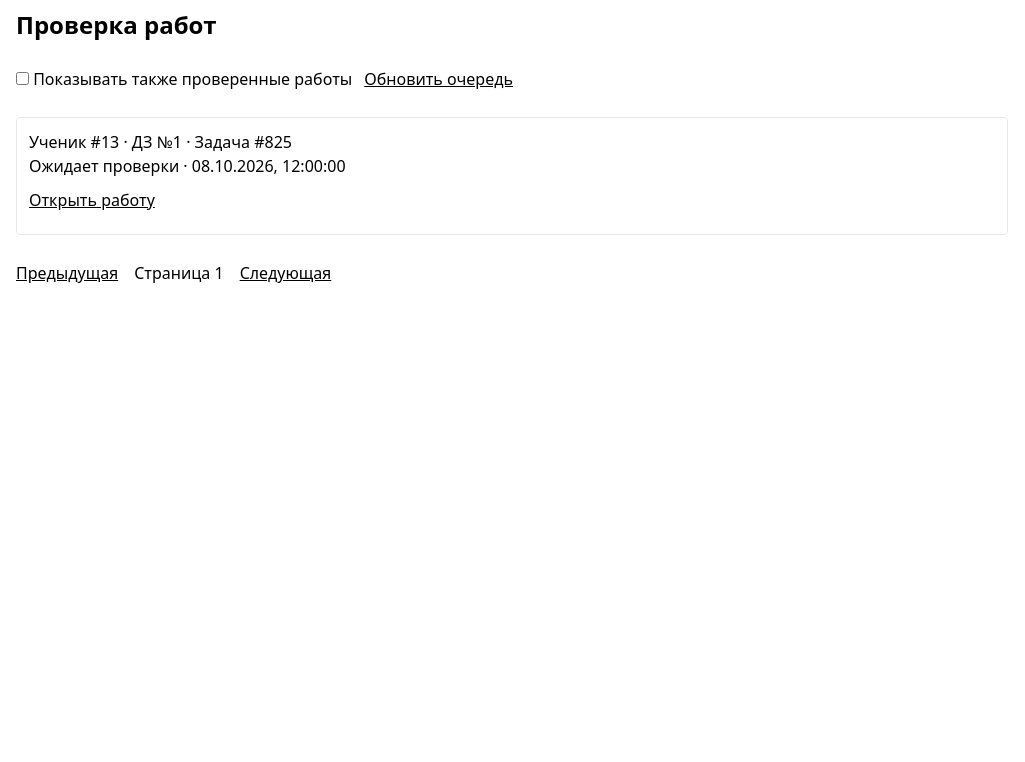
Scenario: requires a comment for revision and removes review controls after accepting
Click the button "Открыть работу": [92, 200] box [29,178,155,222]
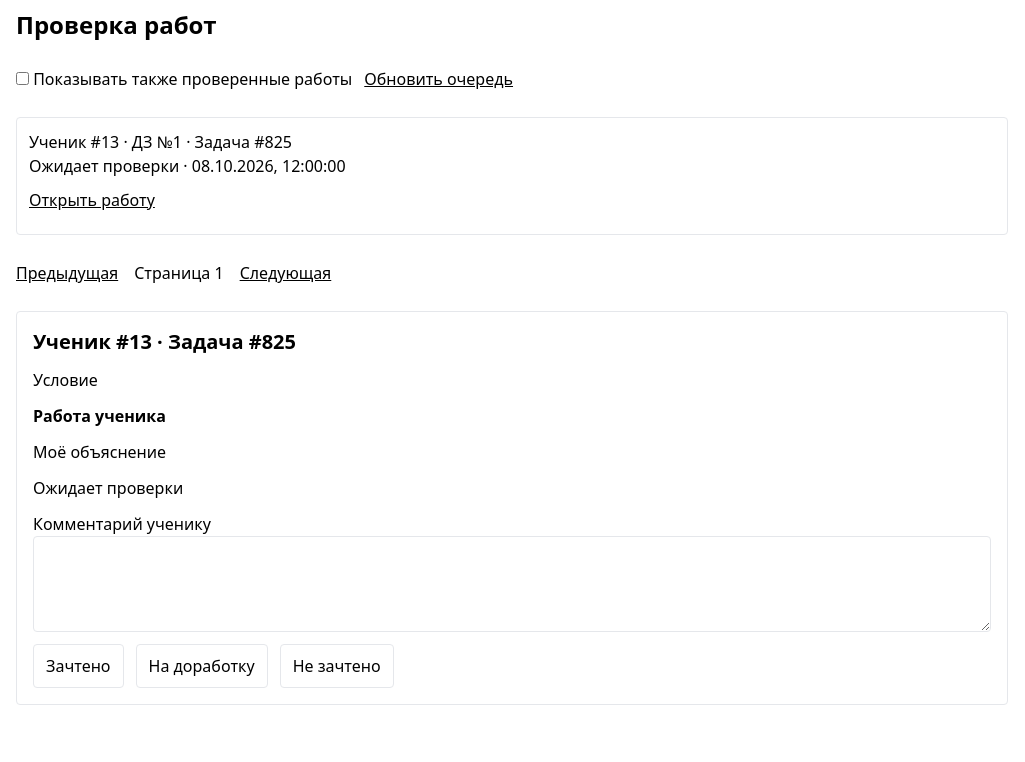
Result: the text "Моё объяснение" is shown at [33,441,166,463]
Click the button "На доработку": [202, 666] box [136,644,268,688]
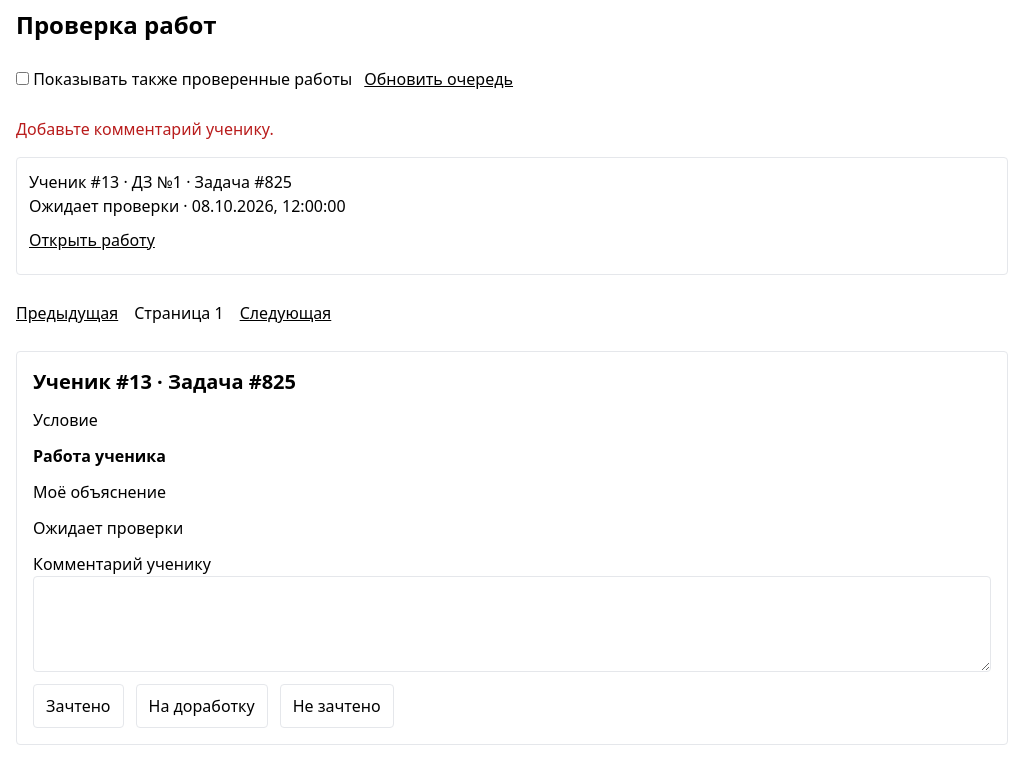
Result: the text "Добавьте комментарий ученику." is shown at [16,118,274,140]
In the text box labelled "Комментарий ученику": [512, 624] box [33,576,991,672], type "Хорошо"
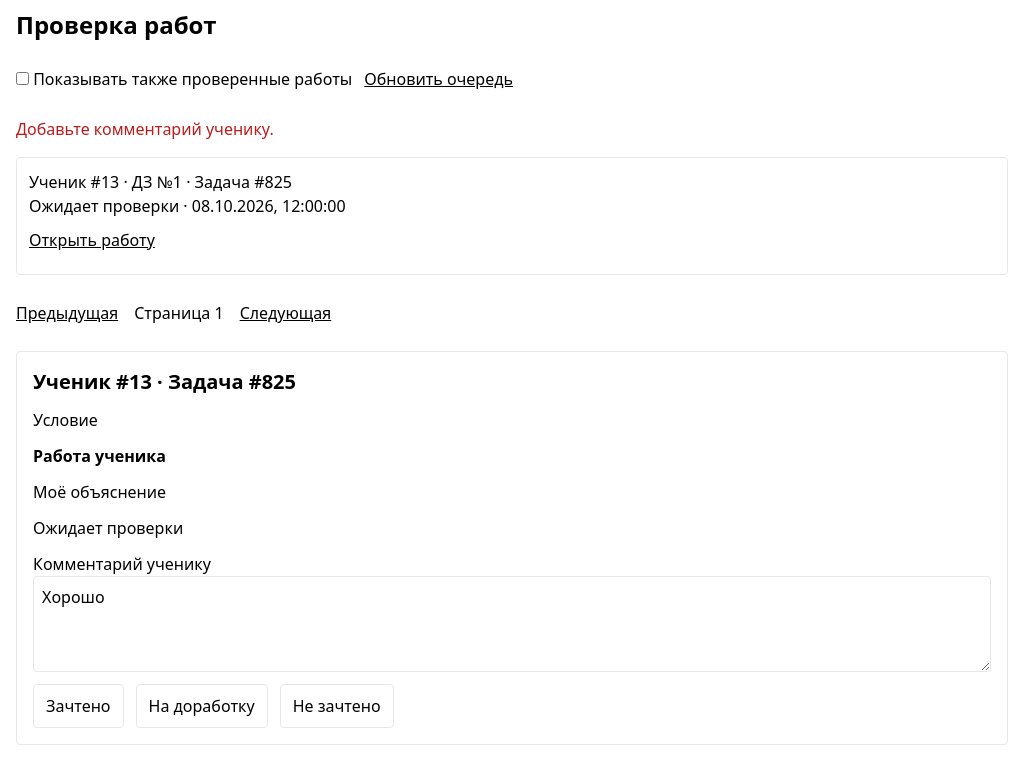
Click the button "Зачтено": [78, 706] box [33,684,124,728]
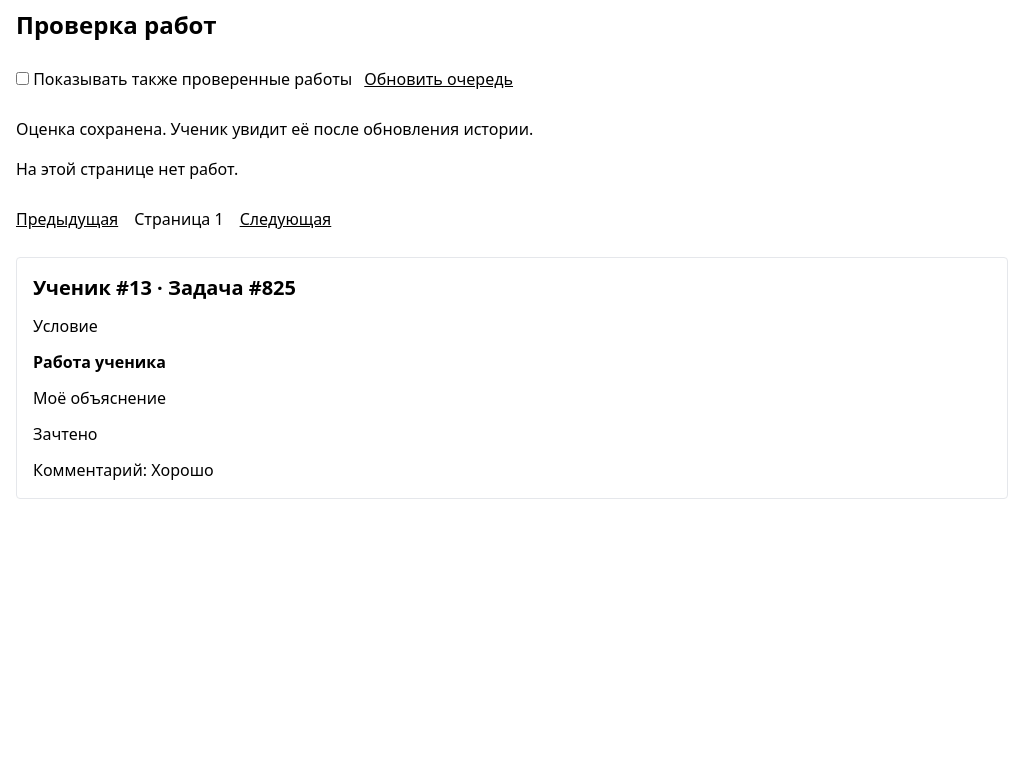
Result: the text "Оценка сохранена. Ученик увидит её после обновления истории." is shown at [16,118,533,140]
Result: the button "Открыть работу" is gone
